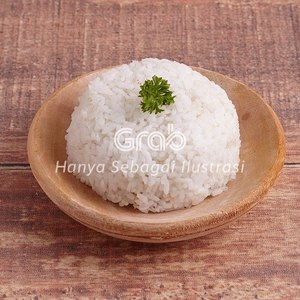Nasi Putih: (55, 64, 249, 221)
